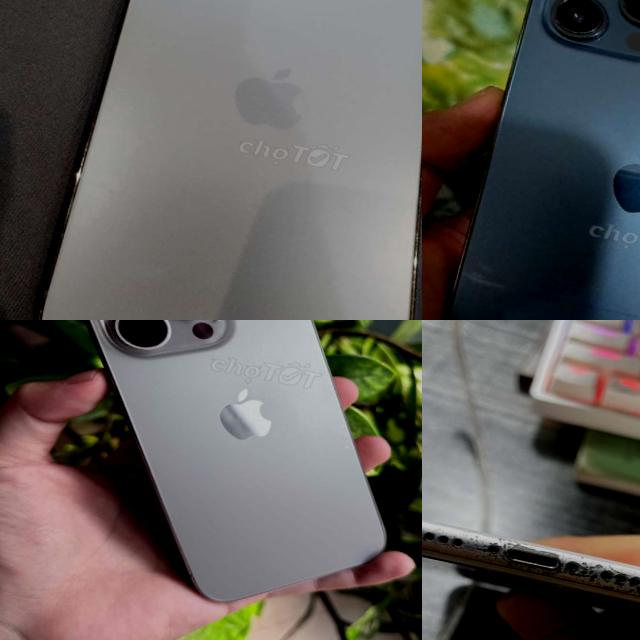gen_12_13: (22, 0, 422, 320), (422, 0, 640, 320)
gen_15: (0, 320, 422, 626)
gen_7_8: (422, 488, 640, 640)
